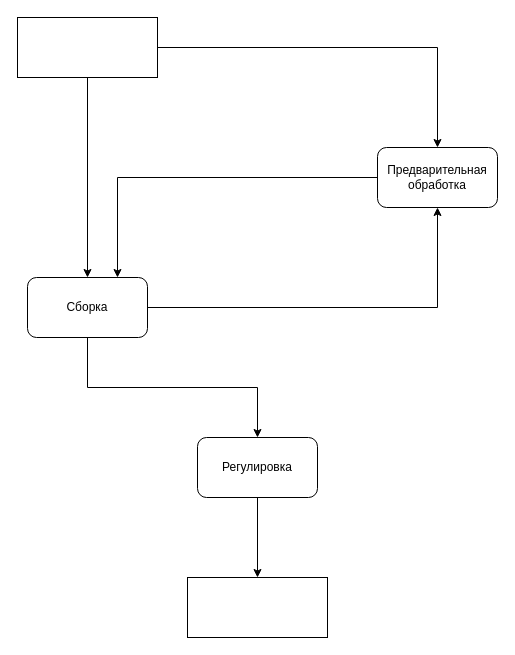
Image size: 515x655. Some labels were removed from this diagram. The box of each missing label's shape, as (x1, y1, x2, y2) in pixels:
Готовая продукция: (186, 576, 328, 638)
Производящий детали участок цеха: (16, 16, 158, 78)
